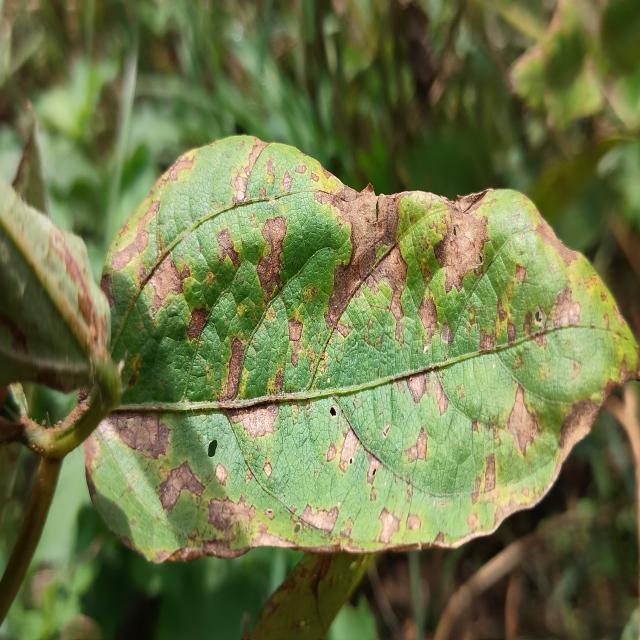Black gram_leaf spot: (78, 131, 640, 550)
